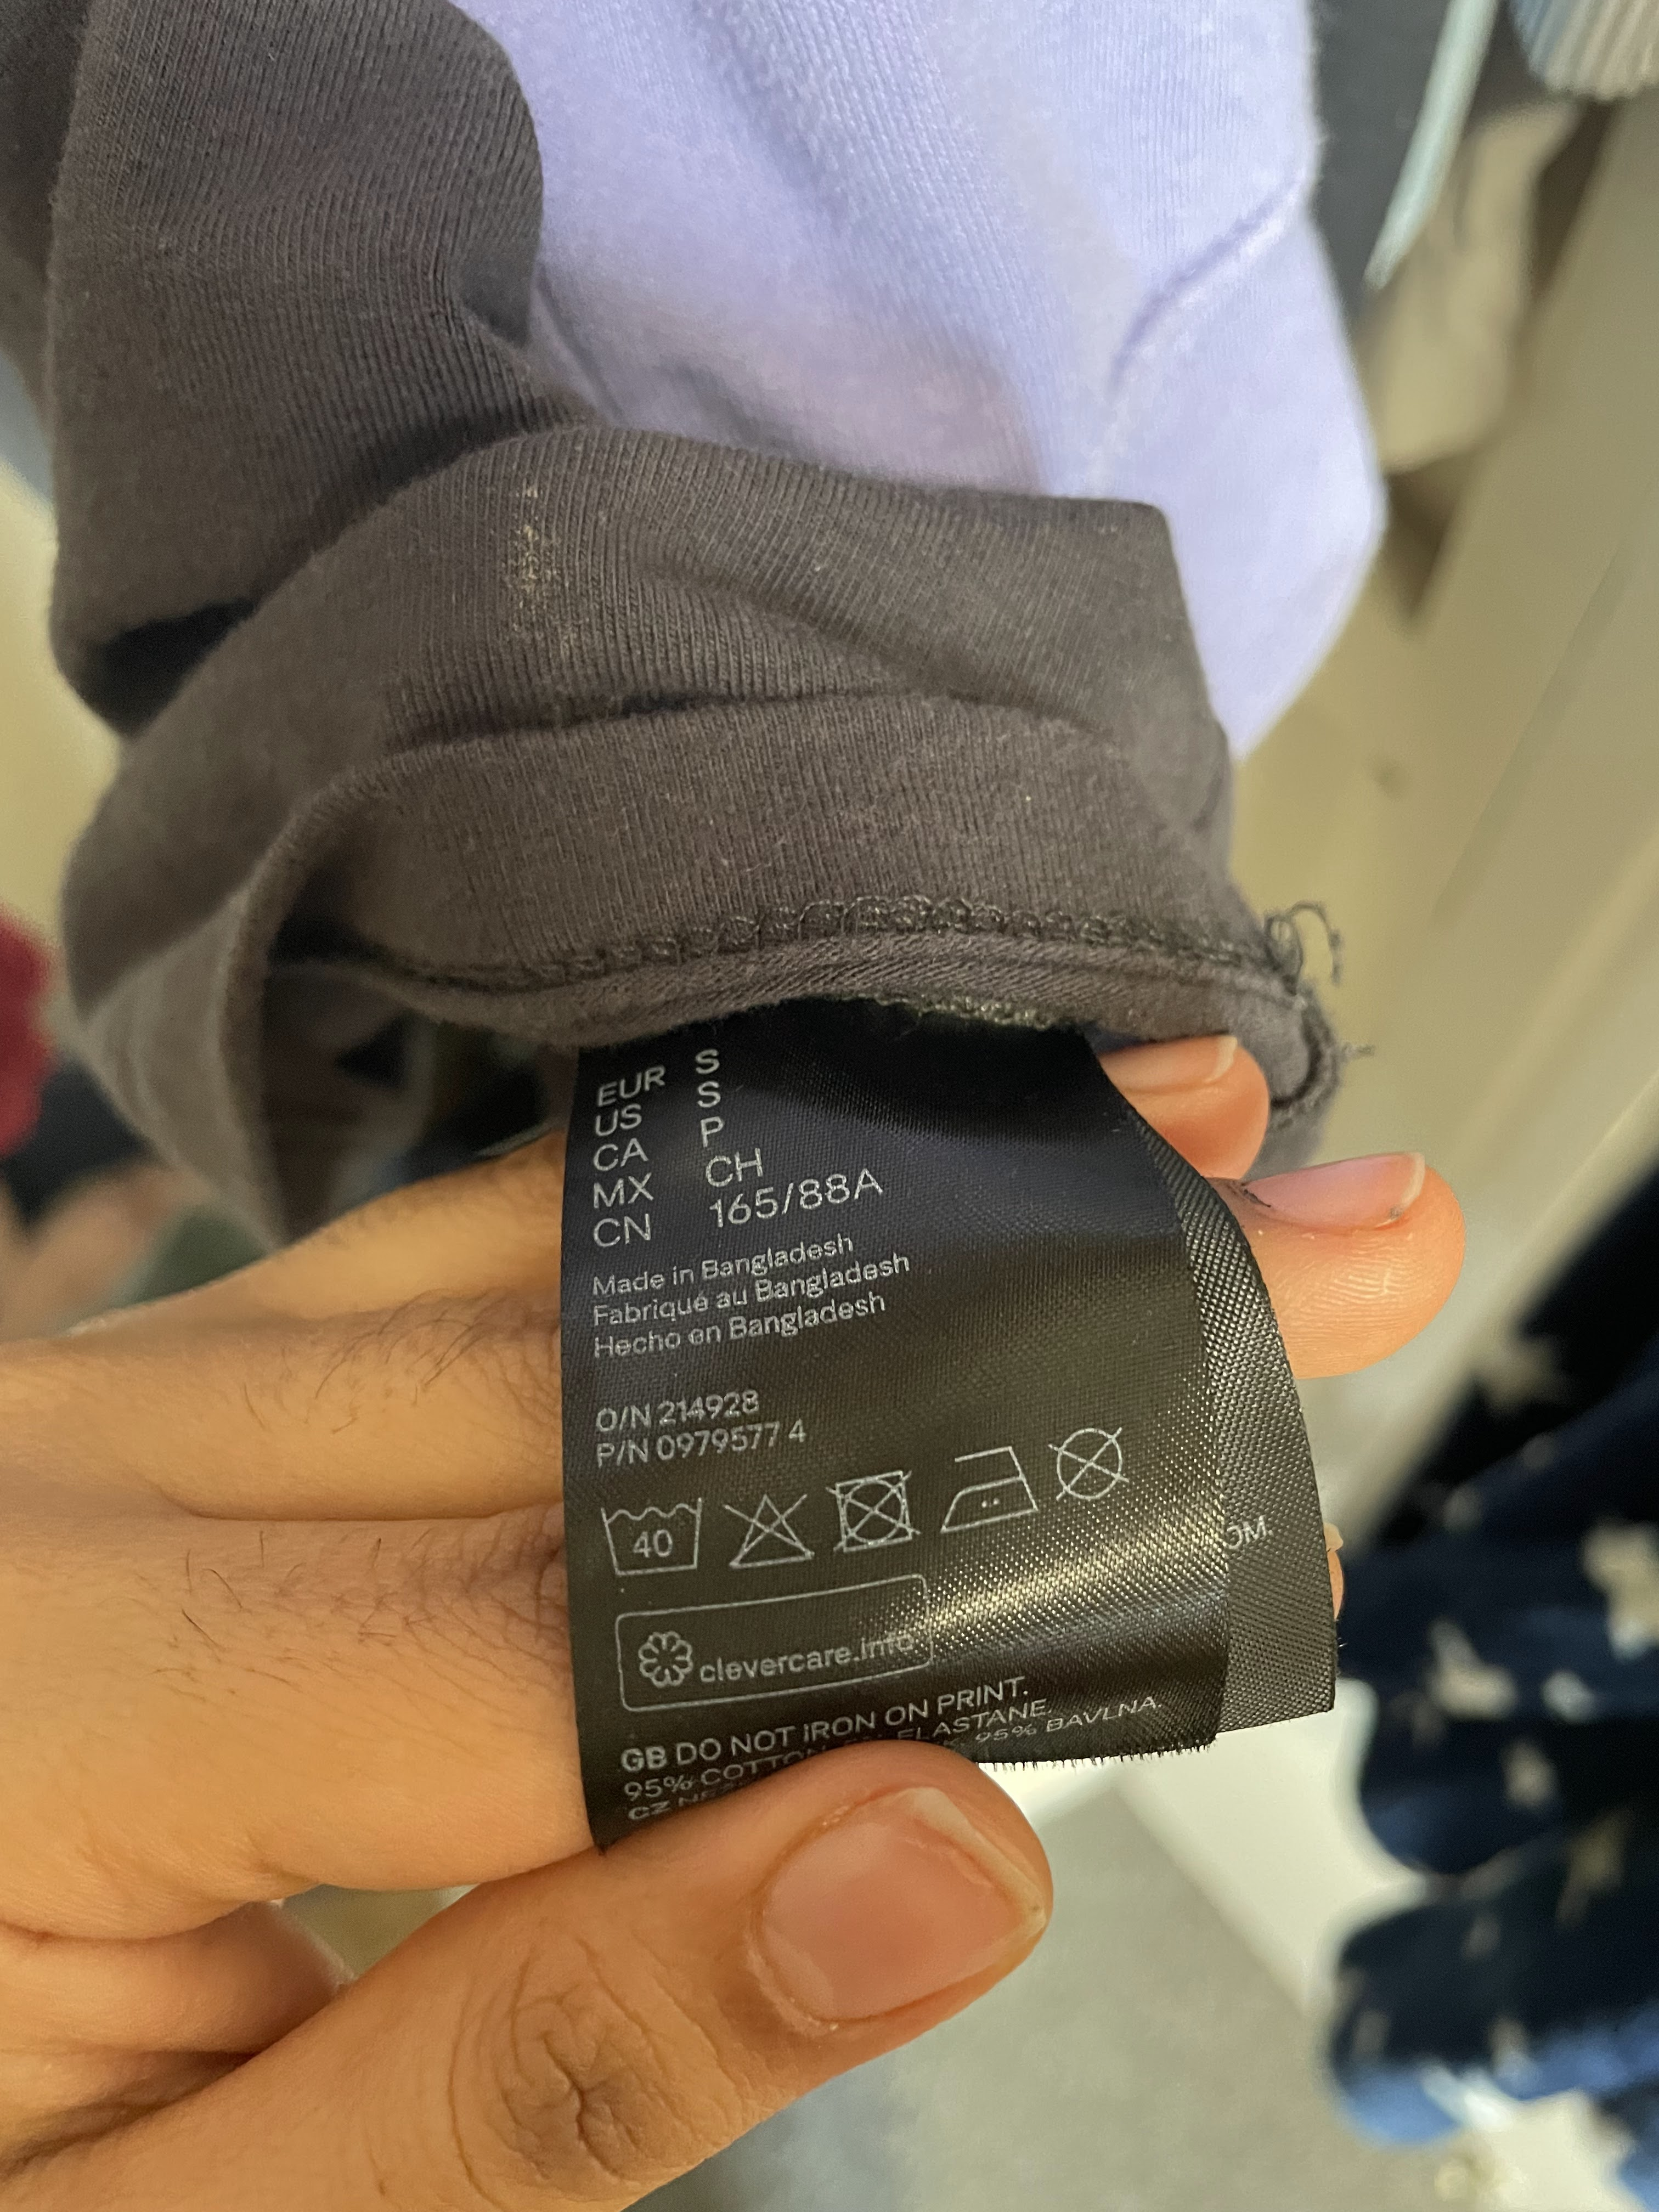do not bleach: (718, 1493, 835, 1594)
do not tumble dry: (1033, 1400, 1152, 1522), (826, 1463, 932, 1571)
iron medium temp: (924, 1426, 1047, 1550)
wash at or below 40: (577, 1479, 711, 1583)
